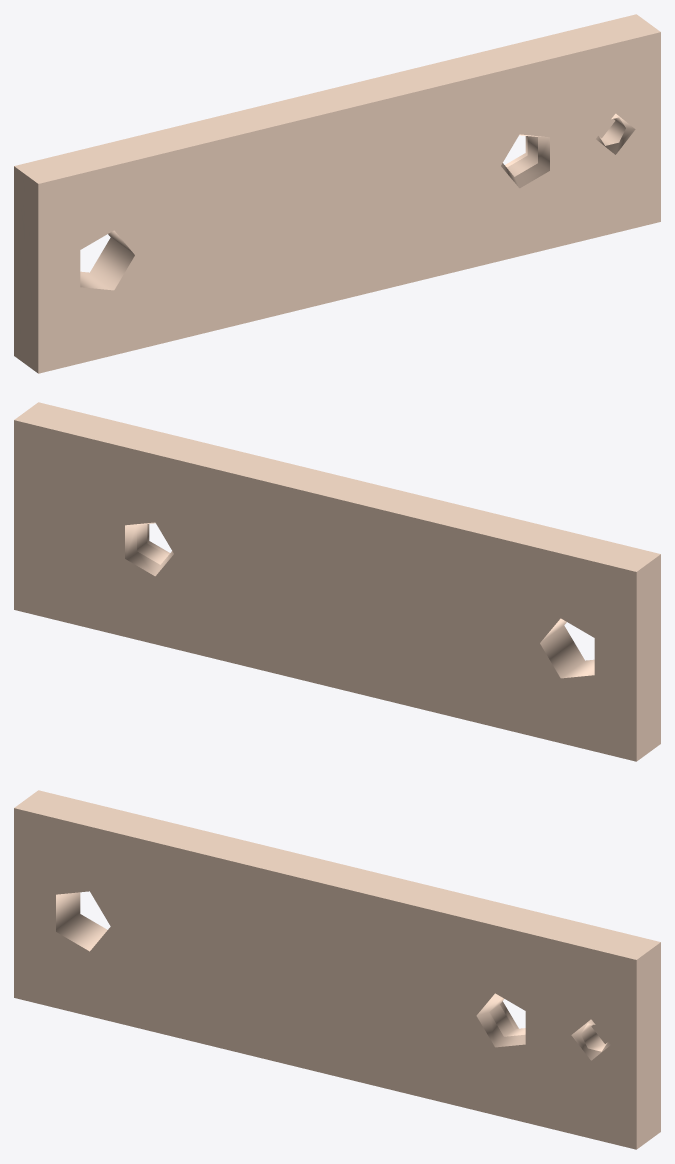
The model's file is Pont cliquet anti-retour - plaque.obj.
3 views of the same model, one above another, from view 1: azimuth 30°, elevation 25°; view 2: azimuth 150°, elevation 25°; view 3: azimuth 330°, elevation 25° (orthographic).
Parts seen in each view (by area): view 1: Face_6, Face_4, Face_3, Face_8, Face_11, Face_7; view 2: Face_5, Face_4, Face_3, Face_8, Face_12, Face_7; view 3: Face_6, Face_4, Face_1, Face_8, Face_11, Face_7.
Part boxes in pixels (left/top/right/bottom): Face_6: left=38, top=32, right=660, bottom=373; Face_4: left=14, top=14, right=660, bottom=183; Face_3: left=14, top=166, right=38, bottom=373; Face_8: left=80, top=230, right=134, bottom=290; Face_11: left=501, top=134, right=549, bottom=188; Face_7: left=507, top=136, right=537, bottom=176; Face_5: left=14, top=420, right=636, bottom=761; Face_4: left=14, top=402, right=660, bottom=571; Face_3: left=636, top=554, right=660, bottom=761; Face_8: left=540, top=618, right=594, bottom=678; Face_12: left=125, top=522, right=173, bottom=576; Face_7: left=137, top=524, right=167, bottom=564; Face_6: left=14, top=808, right=636, bottom=1149; Face_4: left=14, top=790, right=660, bottom=959; Face_1: left=636, top=942, right=660, bottom=1149; Face_8: left=56, top=892, right=107, bottom=951; Face_11: left=476, top=993, right=525, bottom=1047; Face_7: left=489, top=997, right=525, bottom=1036.
Bounding box in the file's own units: 0.0515 × 0.015 × 0.0035.
